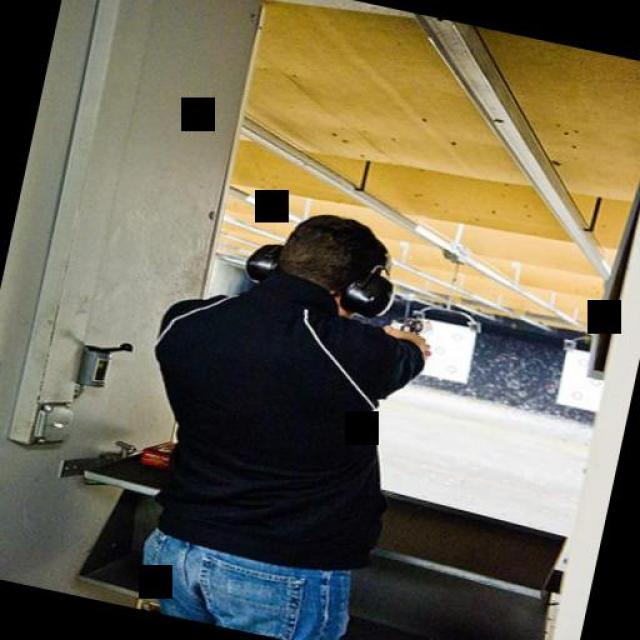gun: (400, 313, 425, 335)
